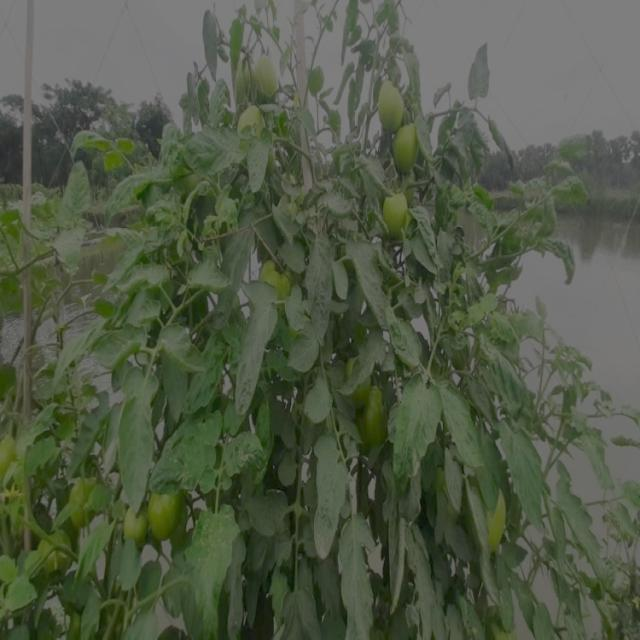tomato: (480, 490, 514, 556), (364, 408, 407, 453), (160, 491, 193, 544), (64, 481, 103, 524), (391, 127, 428, 172), (248, 59, 283, 105), (264, 265, 309, 300), (46, 529, 75, 581), (349, 364, 389, 400), (380, 88, 413, 127), (128, 512, 153, 561), (385, 191, 414, 231), (238, 108, 271, 133)
